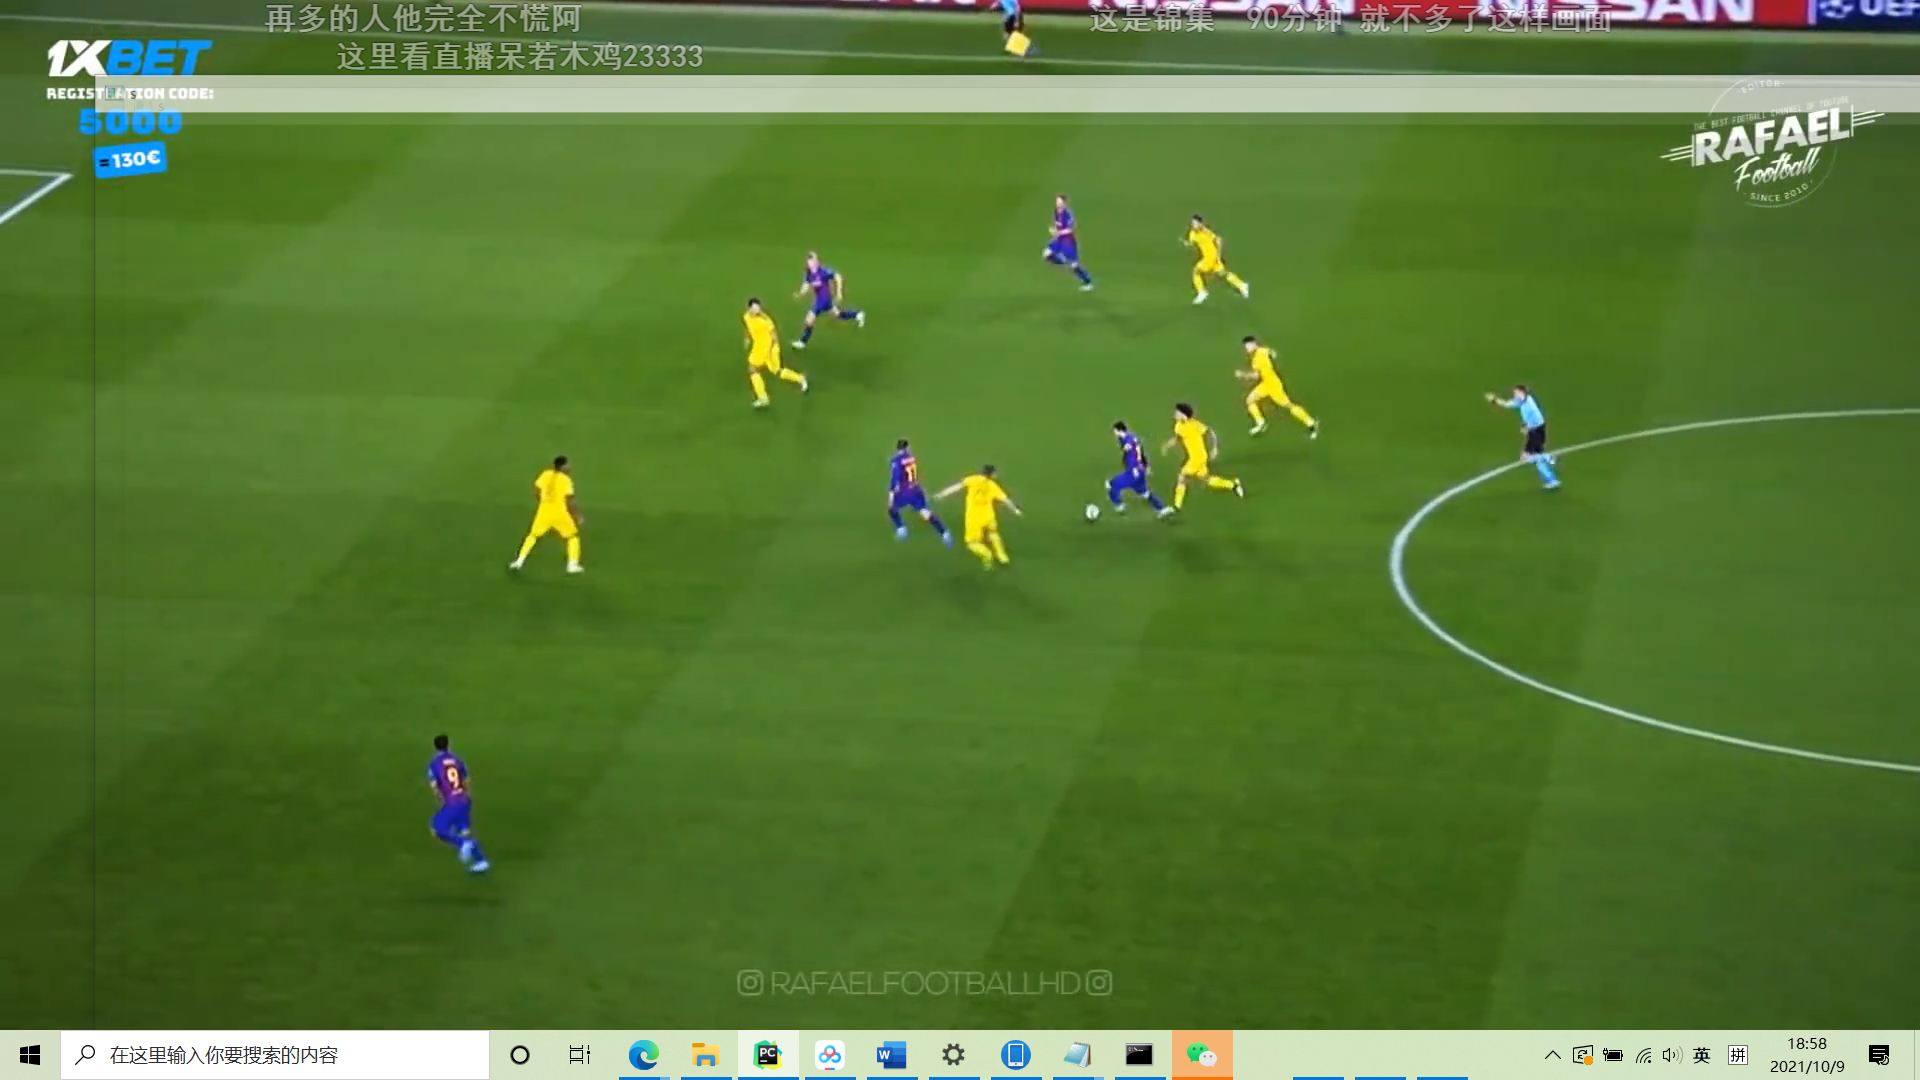ft: (1083, 502, 1102, 520)
